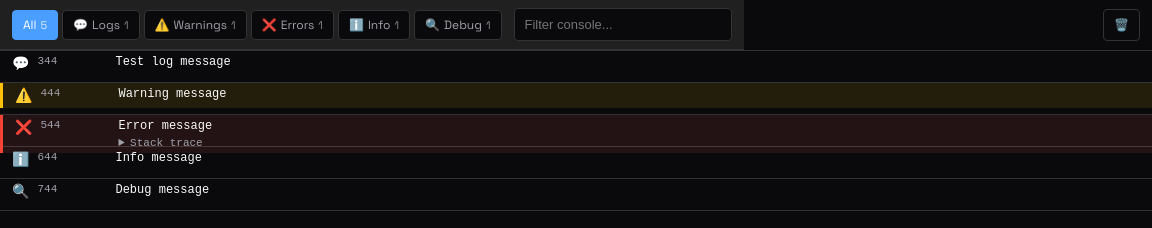
Test case: ConsoleTab › should search logs
The image size is (1152, 228).
In the field with placeholder "Filter console...": (622, 24) [514,8,732,41], type "error"
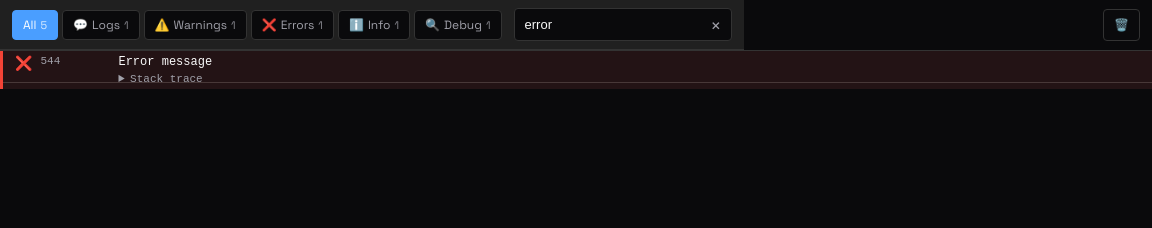
Check: the text "Error message" is shown, box [118,55,212,69]
Check: the text "Test log message" is gone
